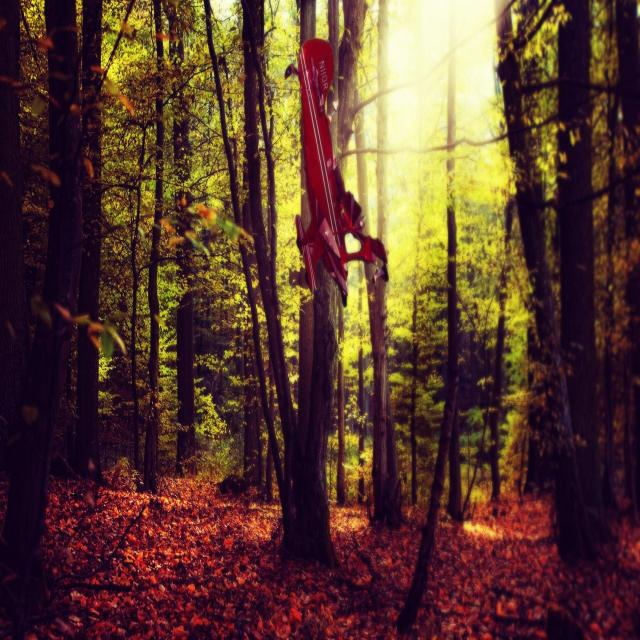airplane: (284, 37, 388, 306)
